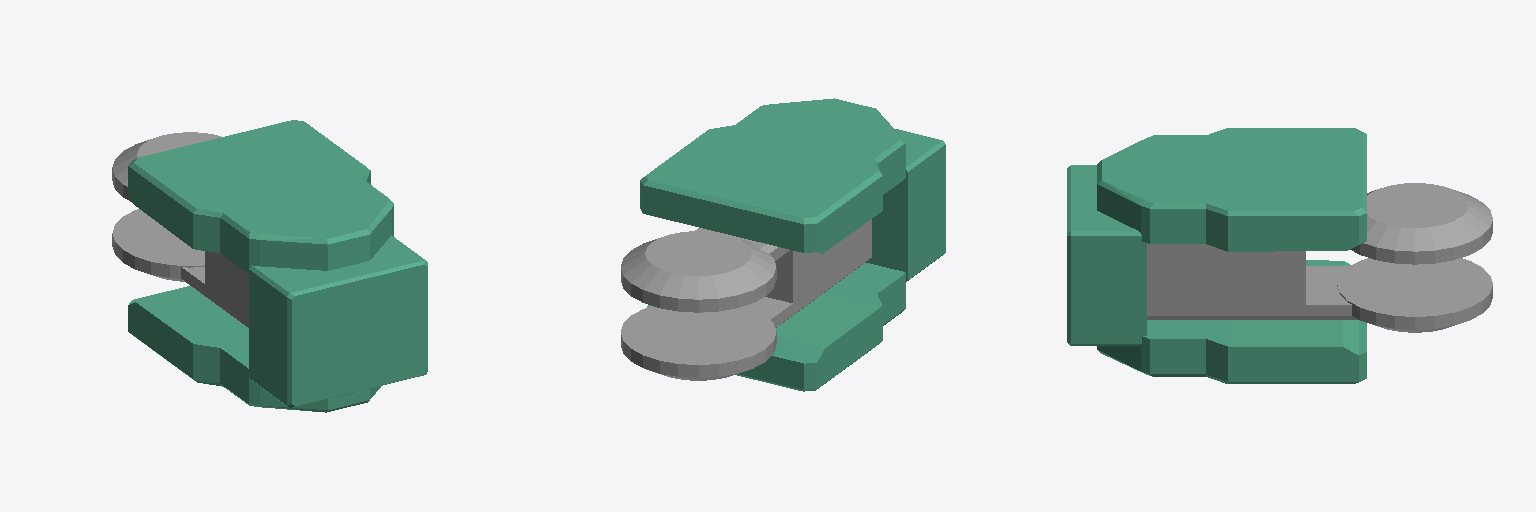
The model's file is r-lower-arm.obj.
3 views of the same model, side by side, from view 1: azimuth 30°, elevation 25°; view 2: azimuth 150°, elevation 25°; view 3: azimuth 270°, elevation 25° (orthographic).
Parts seen in each view (by area): view 1: r-lower-arm.obj; view 2: r-lower-arm.obj; view 3: r-lower-arm.obj.
Part boxes in pixels (bbox=[...]): r-lower-arm.obj: bbox=[112, 120, 427, 412]; r-lower-arm.obj: bbox=[621, 98, 945, 391]; r-lower-arm.obj: bbox=[1067, 128, 1492, 383].
Bounding box in the file's own units: 0.094 × 0.088 × 0.1958.